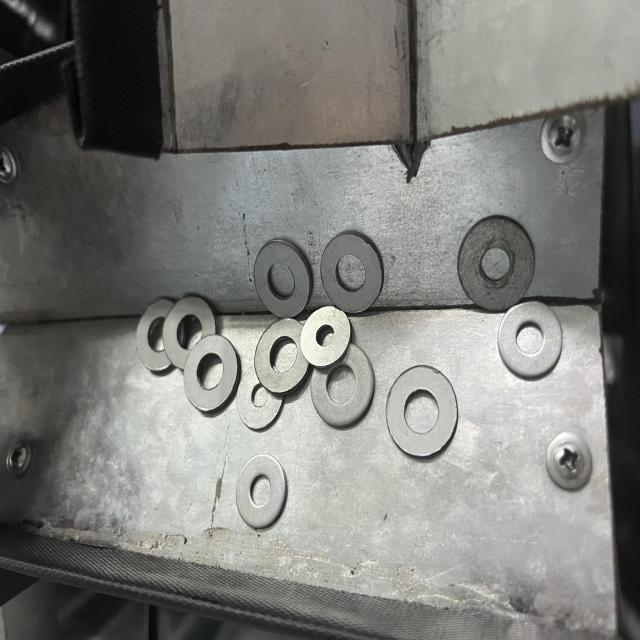washer: (458, 217, 536, 311), (385, 364, 460, 461), (498, 300, 562, 380), (183, 334, 238, 414), (235, 453, 288, 532), (300, 306, 352, 366)
